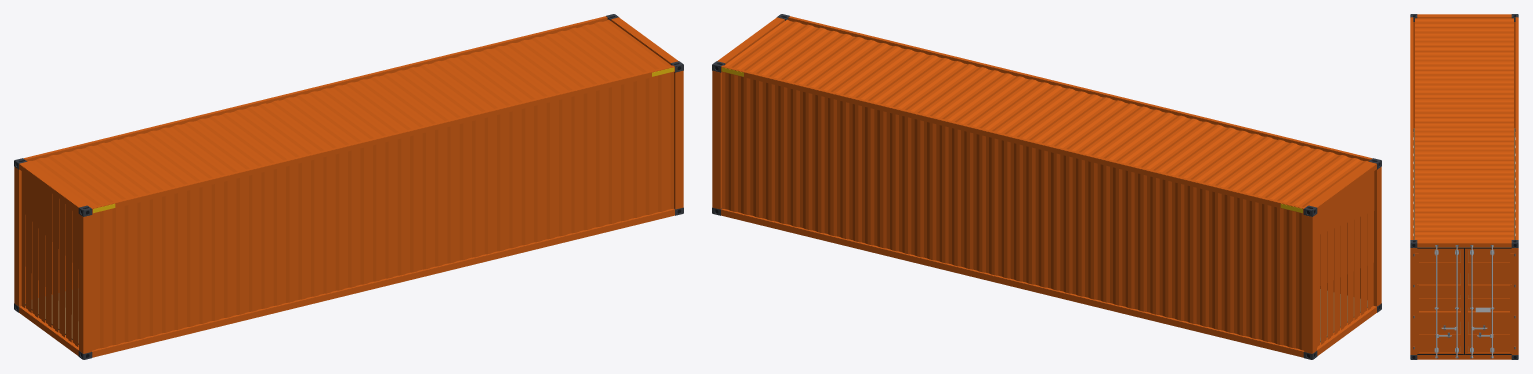
File: iso_40ft_hc_45g1.obj
The picture shows the model from 3 angles, left to right: view 1: azimuth 30°, elevation 25°; view 2: azimuth 150°, elevation 25°; view 3: azimuth 270°, elevation 25°; orthographic projection. The views are drawn at different scales.
Visible parts, largest first — view 1: 04_Corrugated_Corten_Panels, 02_Structural_Frame_Rails, 01_ISO_Corner_Castings_Hollow3D; view 2: 04_Corrugated_Corten_Panels, 02_Structural_Frame_Rails, 01_ISO_Corner_Castings_Hollow3D; view 3: 04_Corrugated_Corten_Panels, 06_Corrugated_Rear_Doors, 02_Structural_Frame_Rails, 07_Galvanized_Locking_Hardware, 03_Marine_Wood_Floor, 05_Door_Rubber_Gaskets_Beveled, 01_ISO_Corner_Castings_Hollow3D.
Boxes of the visible parts, x1,y1,x2,y2 form: 04_Corrugated_Corten_Panels: [21, 19, 673, 350]; 02_Structural_Frame_Rails: [14, 16, 683, 357]; 01_ISO_Corner_Castings_Hollow3D: [14, 14, 683, 359]; 04_Corrugated_Corten_Panels: [722, 19, 1374, 350]; 02_Structural_Frame_Rails: [712, 16, 1381, 357]; 01_ISO_Corner_Castings_Hollow3D: [712, 14, 1381, 359]; 04_Corrugated_Corten_Panels: [1415, 18, 1513, 240]; 06_Corrugated_Rear_Doors: [1413, 248, 1515, 353]; 02_Structural_Frame_Rails: [1410, 14, 1518, 359]; 07_Galvanized_Locking_Hardware: [1413, 245, 1515, 358]; 03_Marine_Wood_Floor: [1413, 128, 1515, 351]; 05_Door_Rubber_Gaskets_Beveled: [1417, 247, 1511, 354]; 01_ISO_Corner_Castings_Hollow3D: [1410, 14, 1518, 359].
Size of the model in its own units: 12.22 by 2.9 by 2.44.
